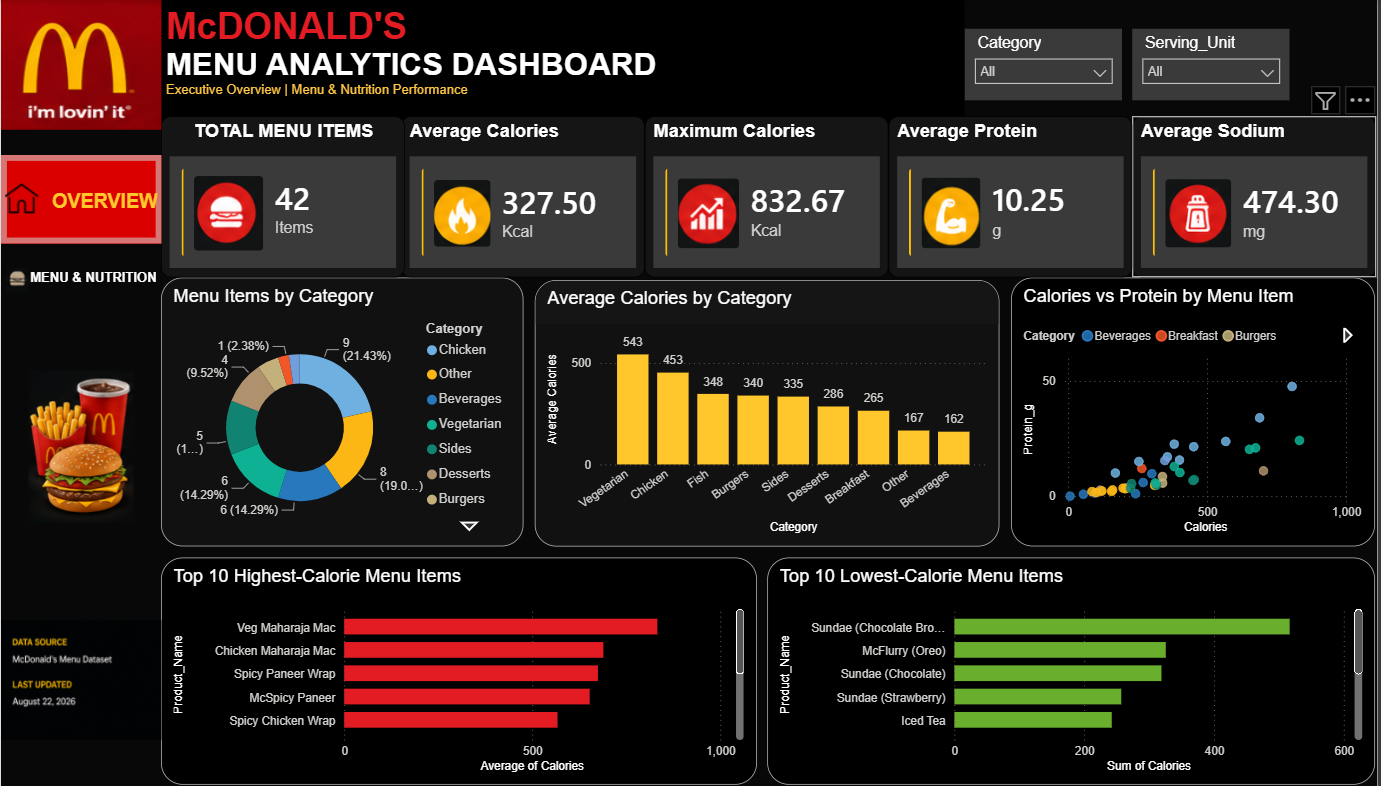

The page's visual inventory and layout, read from the dashboard file:
{"tool":"powerbi","page":{"name":"menu analytics dashbord","canvas":[1400,800],"ordinal":0},"visuals":[{"type":"clusteredColumnChart","fields":{"Y":["McDonalds_Menu.Average Calories"],"Category":["McDonalds_Menu.Category"]},"box":[542.5,285,472.5,271.2],"z":0},{"type":"scatterChart","title":"Calories vs Protein by Menu Item","fields":{"X":["McDonalds_Menu.Calories"],"Y":["McDonalds_Menu.Protein_g"],"Series":["McDonalds_Menu.Category"]},"box":[1027.5,282.5,370,273.8],"z":1000},{"type":"clusteredBarChart","title":"Top 10 Highest-Calorie Menu Items","fields":{"Category":["McDonalds_Menu.Product_Name"],"Y":["Avg(McDonalds_Menu.Calories)"]},"box":[162.5,567.5,606.2,231.2],"z":2000},{"type":"textbox","box":[163.2,0,817.3,133.5],"z":3000},{"type":"donutChart","title":"Menu Items by Category","fields":{"Category":["McDonalds_Menu.Category"],"Y":["CountNonNull(McDonalds_Menu.Product_Name)"]},"box":[162.5,282.5,368.8,273.8],"z":4000},{"type":"slicer","fields":{"Values":["McDonalds_Menu.Category"]},"box":[980.5,29.7,160.2,72.7],"z":5000},{"type":"cardVisual","title":"Average Sodium","fields":{"Data":["Avg(McDonalds_Menu.Sodium_mg)"]},"box":[1151.3,117.8,248.3,164],"z":6000},{"type":"cardVisual","title":"Average Protein","fields":{"Data":["McDonalds_Menu.Average Protein"]},"box":[903,118.3,248.3,164],"z":7000},{"type":"cardVisual","title":"Maximum Calories","fields":{"Data":["McDonalds_Menu.Maximum Calories"]},"box":[655,118.3,248.3,164],"z":8000},{"type":"cardVisual","title":"Average Calories","fields":{"Data":["McDonalds_Menu.Average Calories"]},"box":[407,118.3,248.3,164],"z":9000},{"type":"cardVisual","title":"TOTAL MENU ITEMS","fields":{"Data":["McDonalds_Menu.Total Menu Items"]},"box":[162.8,118.3,248.3,164],"z":10000},{"type":"clusteredBarChart","title":"Top 10 Lowest-Calorie Menu Items","fields":{"Category":["McDonalds_Menu.Product_Name"],"Y":["Sum(McDonalds_Menu.Calories)"]},"box":[780,567.5,618.8,231.2],"z":11000},{"type":"slicer","fields":{"Values":["McDonalds_Menu.Serving_Unit"]},"box":[1151.1,29.7,160.2,72.7],"z":12000},{"type":"image","box":[0,0,163.3,131.7],"z":13000},{"type":"actionButton","box":[0,158.3,163.3,90],"z":14000},{"type":"actionButton","box":[0,262.5,162.5,46.2],"z":15000},{"type":"actionButton","box":[0,313,163.2,283.3],"z":19000},{"type":"actionButton","box":[0,596.3,163.2,203.2],"z":20000}]}

Visuals, with their boxes on the page's 1400x800 design canvas (x1, y1, x2, y2). These are canvas units, not pixel positions in the 1381x786 screenshot, which may show the page scaled, cropped or inside an application window:
clusteredColumnChart - McDonalds_Menu.Average Calories x McDonalds_Menu.Category: detection(542, 285, 1015, 556)
"Calories vs Protein by Menu Item" scatterChart: detection(1028, 282, 1398, 556)
"Top 10 Highest-Calorie Menu Items" clusteredBarChart: detection(162, 568, 769, 799)
textbox: detection(163, 0, 980, 134)
"Menu Items by Category" donutChart: detection(162, 282, 531, 556)
slicer - McDonalds_Menu.Category: detection(980, 30, 1141, 102)
"Average Sodium" cardVisual: detection(1151, 118, 1400, 282)
"Average Protein" cardVisual: detection(903, 118, 1151, 282)
"Maximum Calories" cardVisual: detection(655, 118, 903, 282)
"Average Calories" cardVisual: detection(407, 118, 655, 282)
"TOTAL MENU ITEMS" cardVisual: detection(163, 118, 411, 282)
"Top 10 Lowest-Calorie Menu Items" clusteredBarChart: detection(780, 568, 1399, 799)
slicer - McDonalds_Menu.Serving_Unit: detection(1151, 30, 1311, 102)
image: detection(0, 0, 163, 132)
actionButton: detection(0, 158, 163, 248)
actionButton: detection(0, 262, 162, 309)
actionButton: detection(0, 313, 163, 596)
actionButton: detection(0, 596, 163, 800)
